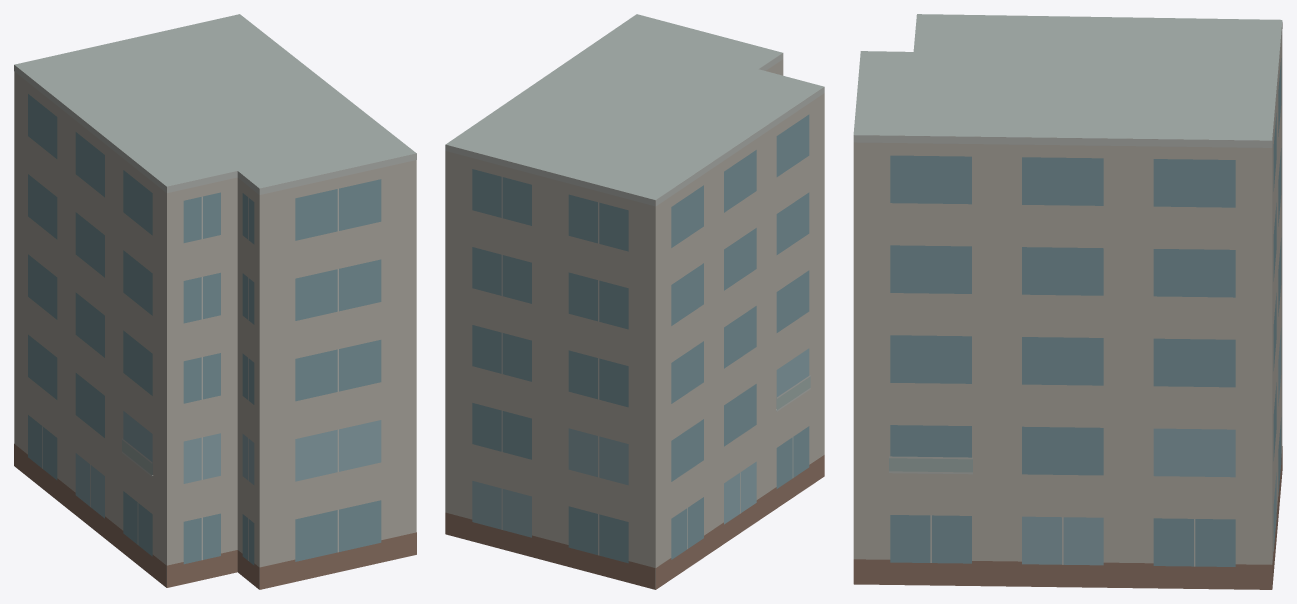
The model's file is survey-upis-32857462.glb.
3 views of the same model, side by side, from view 1: azimuth 30°, elevation 25°; view 2: azimuth 150°, elevation 25°; view 3: azimuth 270°, elevation 25° (orthographic). The views are drawn at different scales.
Parts seen in each view (by area): view 1: survey-upis-32857462.tmp; view 2: survey-upis-32857462.tmp; view 3: survey-upis-32857462.tmp.
Part boxes in pixels (x1=…): survey-upis-32857462.tmp: x1=14, y1=14, x2=416, y2=589; survey-upis-32857462.tmp: x1=445, y1=14, x2=824, y2=589; survey-upis-32857462.tmp: x1=853, y1=14, x2=1282, y2=589.
Bounding box in the file's own units: 9.05 × 14.95 × 12.95.
